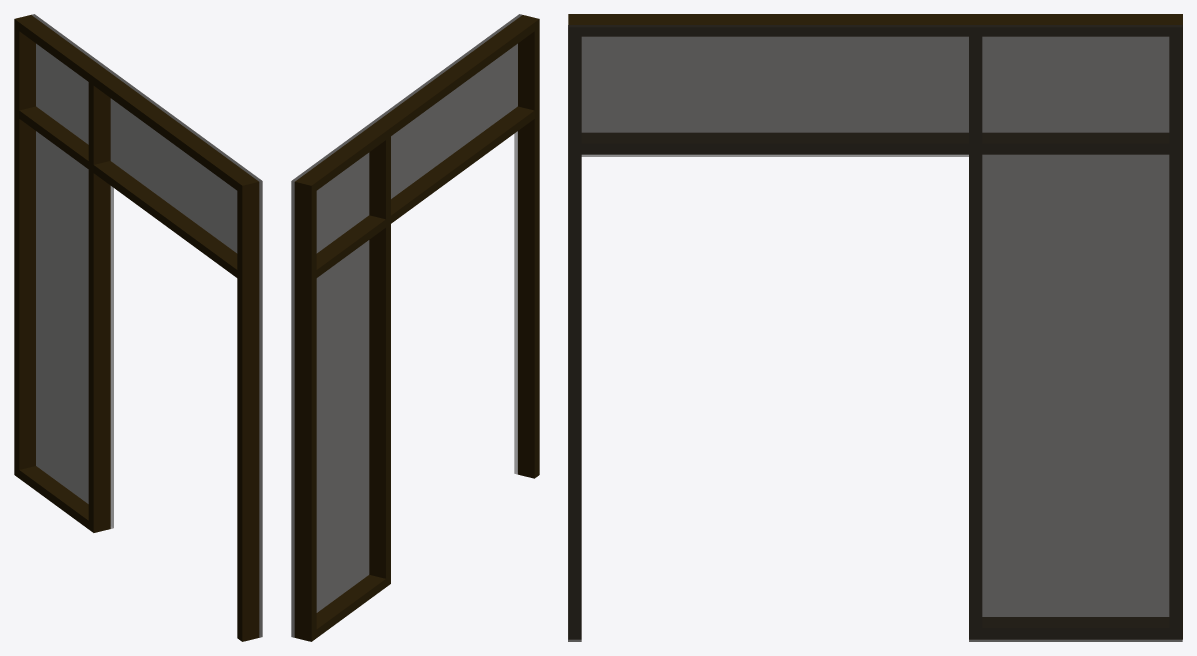
File: LongWindowArcGeneral(ARC-Right).fbx
3 views of the same model, side by side, from view 1: azimuth 30°, elevation 25°; view 2: azimuth 150°, elevation 25°; view 3: azimuth 270°, elevation 25° (orthographic). The views are drawn at different scales.
Parts seen in each view (by area): view 1: Glass; view 2: Glass; view 3: Glass.
Boxes of the visible parts, x1,y1,x2,y2 form: Glass: (14,14,262,641); Glass: (291,14,539,641); Glass: (568,14,1182,641).
Bounding box in the file's own units: 120 × 2600 × 2356.
